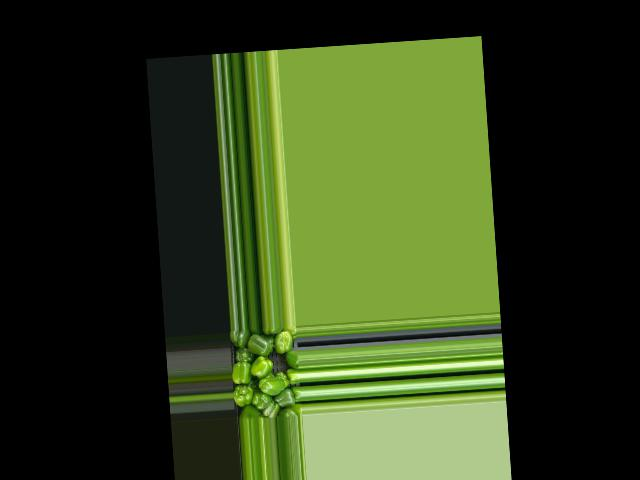bell_pepper: (243, 404, 263, 420)
